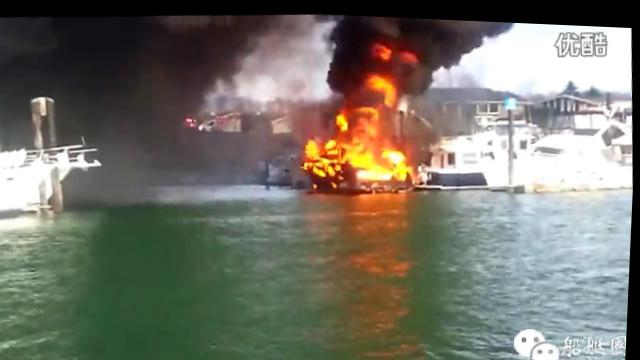fire: (353, 150, 393, 177), (344, 133, 375, 159), (366, 68, 398, 92), (382, 143, 408, 159), (305, 135, 322, 157), (325, 133, 343, 153), (393, 159, 411, 177), (335, 108, 352, 127), (360, 101, 379, 113), (317, 154, 336, 166)
